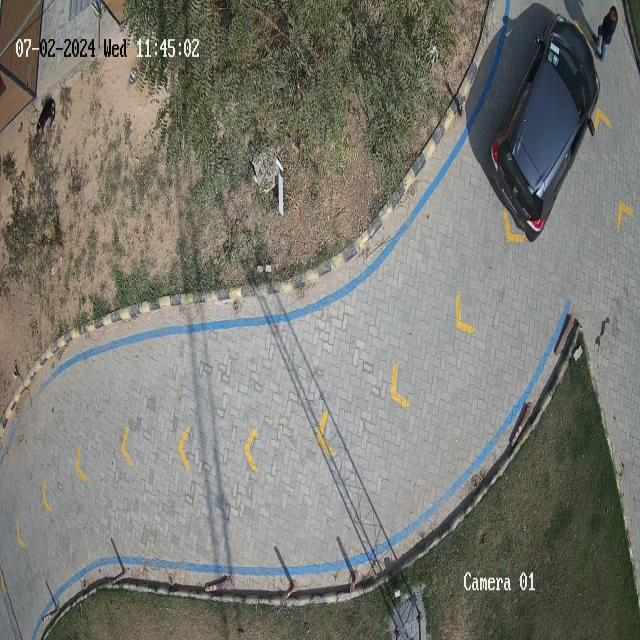car: (484, 19, 598, 237)
